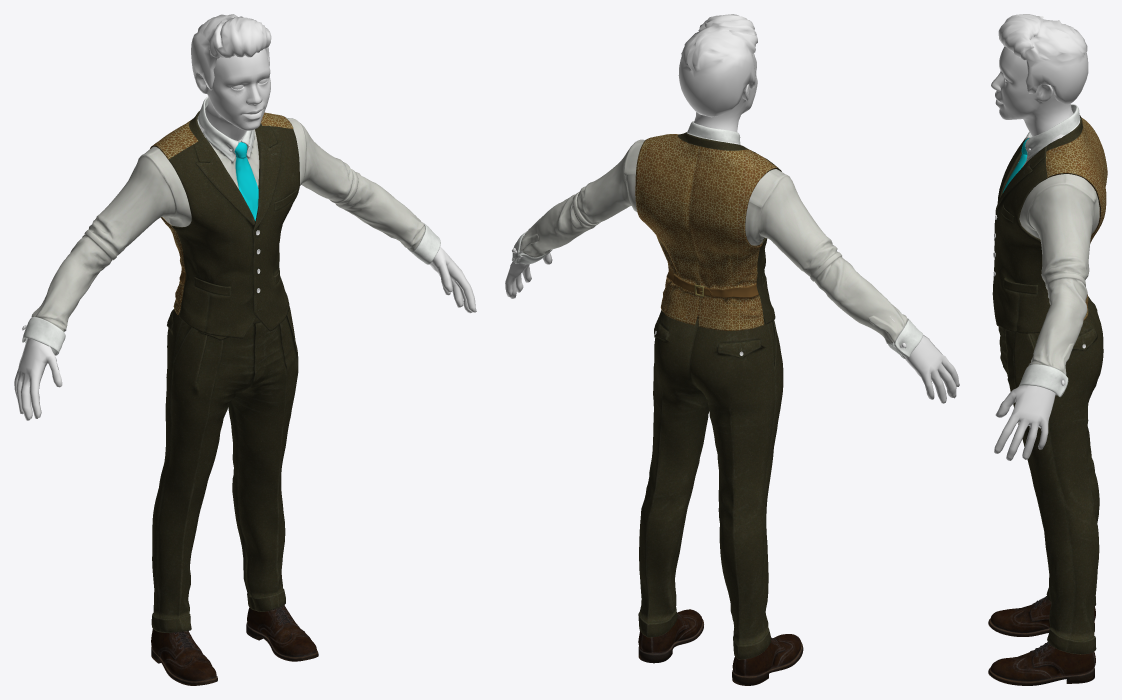
File: ai with business suit.glb
3 renders of one model, left to right at view 1: azimuth 30°, elevation 25°; view 2: azimuth 150°, elevation 25°; view 3: azimuth 270°, elevation 25°, orthographic.
Visible parts, largest first — view 1: Object_15, Object_19, Object_7, Body.001, Object_13; view 2: Object_15, Object_19, Object_7, Body.001, Object_13; view 3: Object_15, Object_7, Body.001, Object_19, Object_13.
Part boxes in pixels (bbox=[...]): Object_15: bbox=[151, 307, 298, 632]; Object_19: bbox=[150, 110, 299, 338]; Object_7: bbox=[22, 97, 440, 355]; Body.001: bbox=[14, 14, 476, 420]; Object_13: bbox=[151, 605, 318, 685]; Object_15: bbox=[638, 310, 783, 659]; Object_19: bbox=[635, 132, 781, 330]; Object_7: bbox=[512, 121, 923, 358]; Body.001: bbox=[505, 14, 959, 403]; Object_13: bbox=[638, 609, 803, 685]; Object_15: bbox=[998, 296, 1103, 654]; Object_7: bbox=[1003, 104, 1099, 397]; Body.001: bbox=[991, 14, 1088, 460]; Object_19: bbox=[992, 115, 1107, 333]; Object_13: bbox=[988, 596, 1095, 685].
Bounding box in the file's own units: 1.51 × 2.07 × 0.3525.
9 materials, 4 textured.
